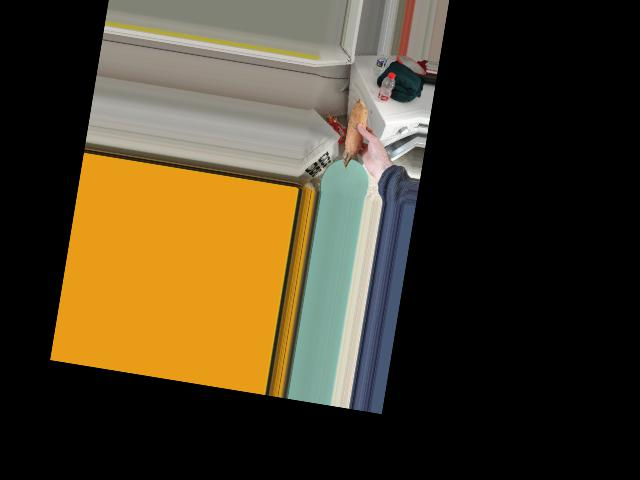sweet_potato: (339, 103, 373, 172)
